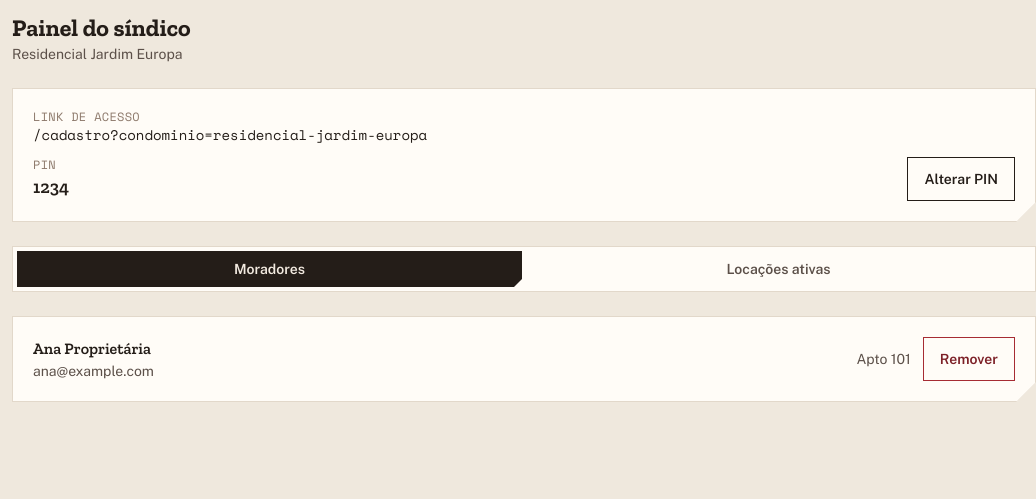
Test case: SindicoPage › altera o PIN do condomínio
expect the text "1234" is shown: met, box [33,173,69,201]
Click the button "Alterar PIN": (961, 179) [907,157,1015,201]
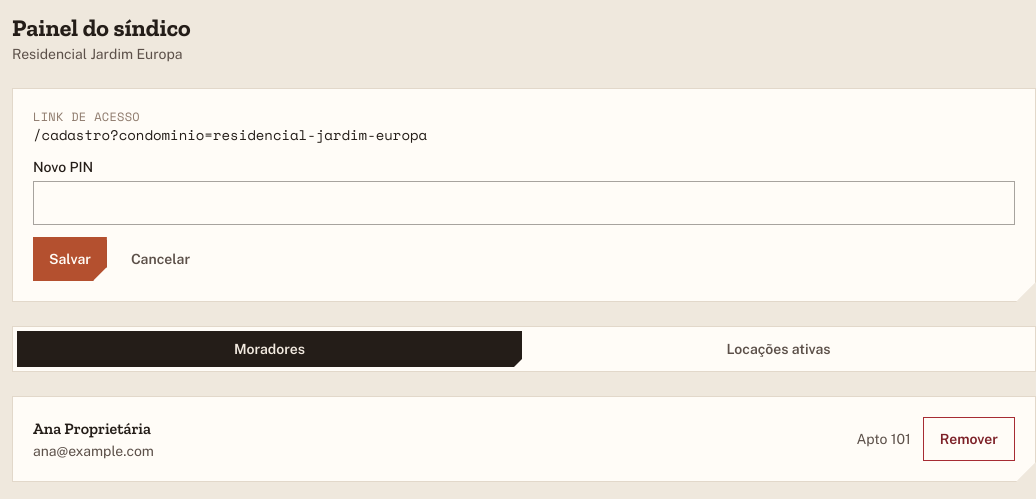
In the field labelled "Novo PIN": (524, 203) [33,181,1015,225], type "5678"
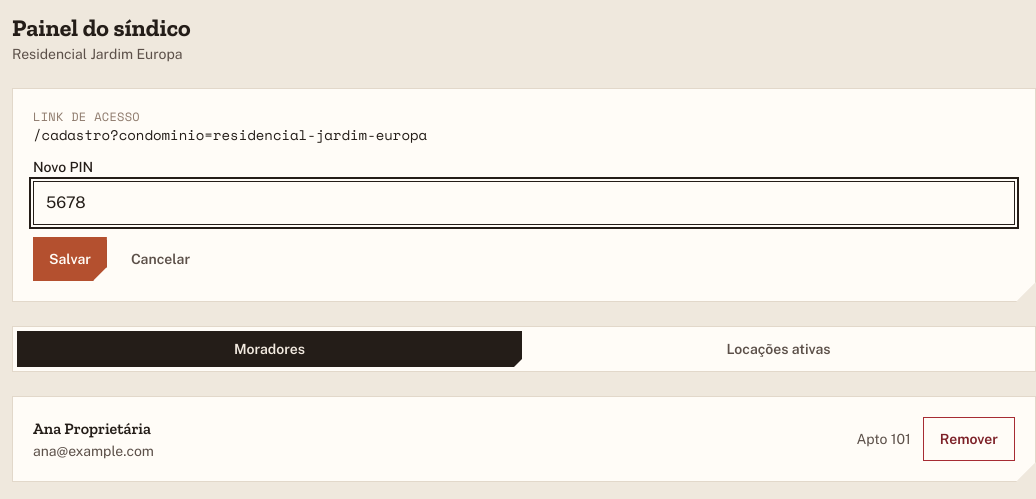
Click the button "Salvar": (70, 259) [33,237,107,281]
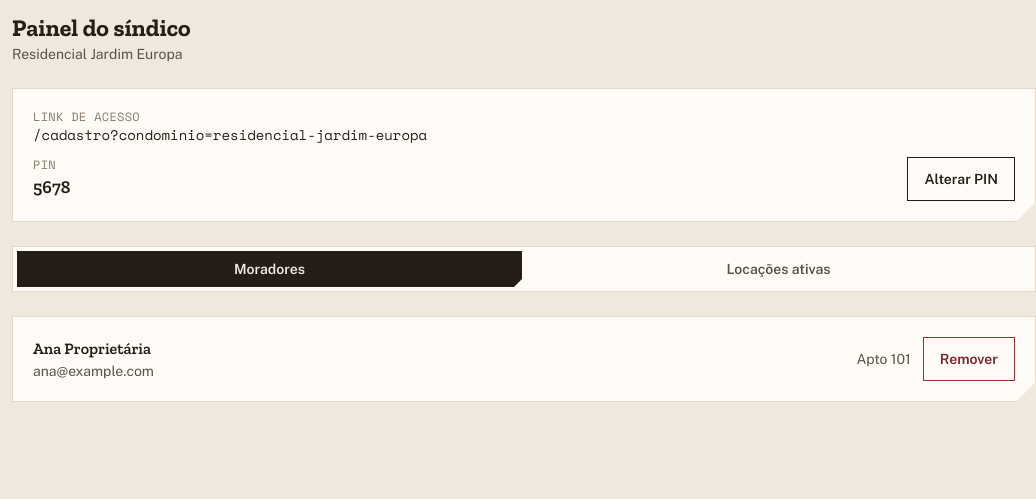
expect the text "5678" is shown: met, box [33,173,70,201]
